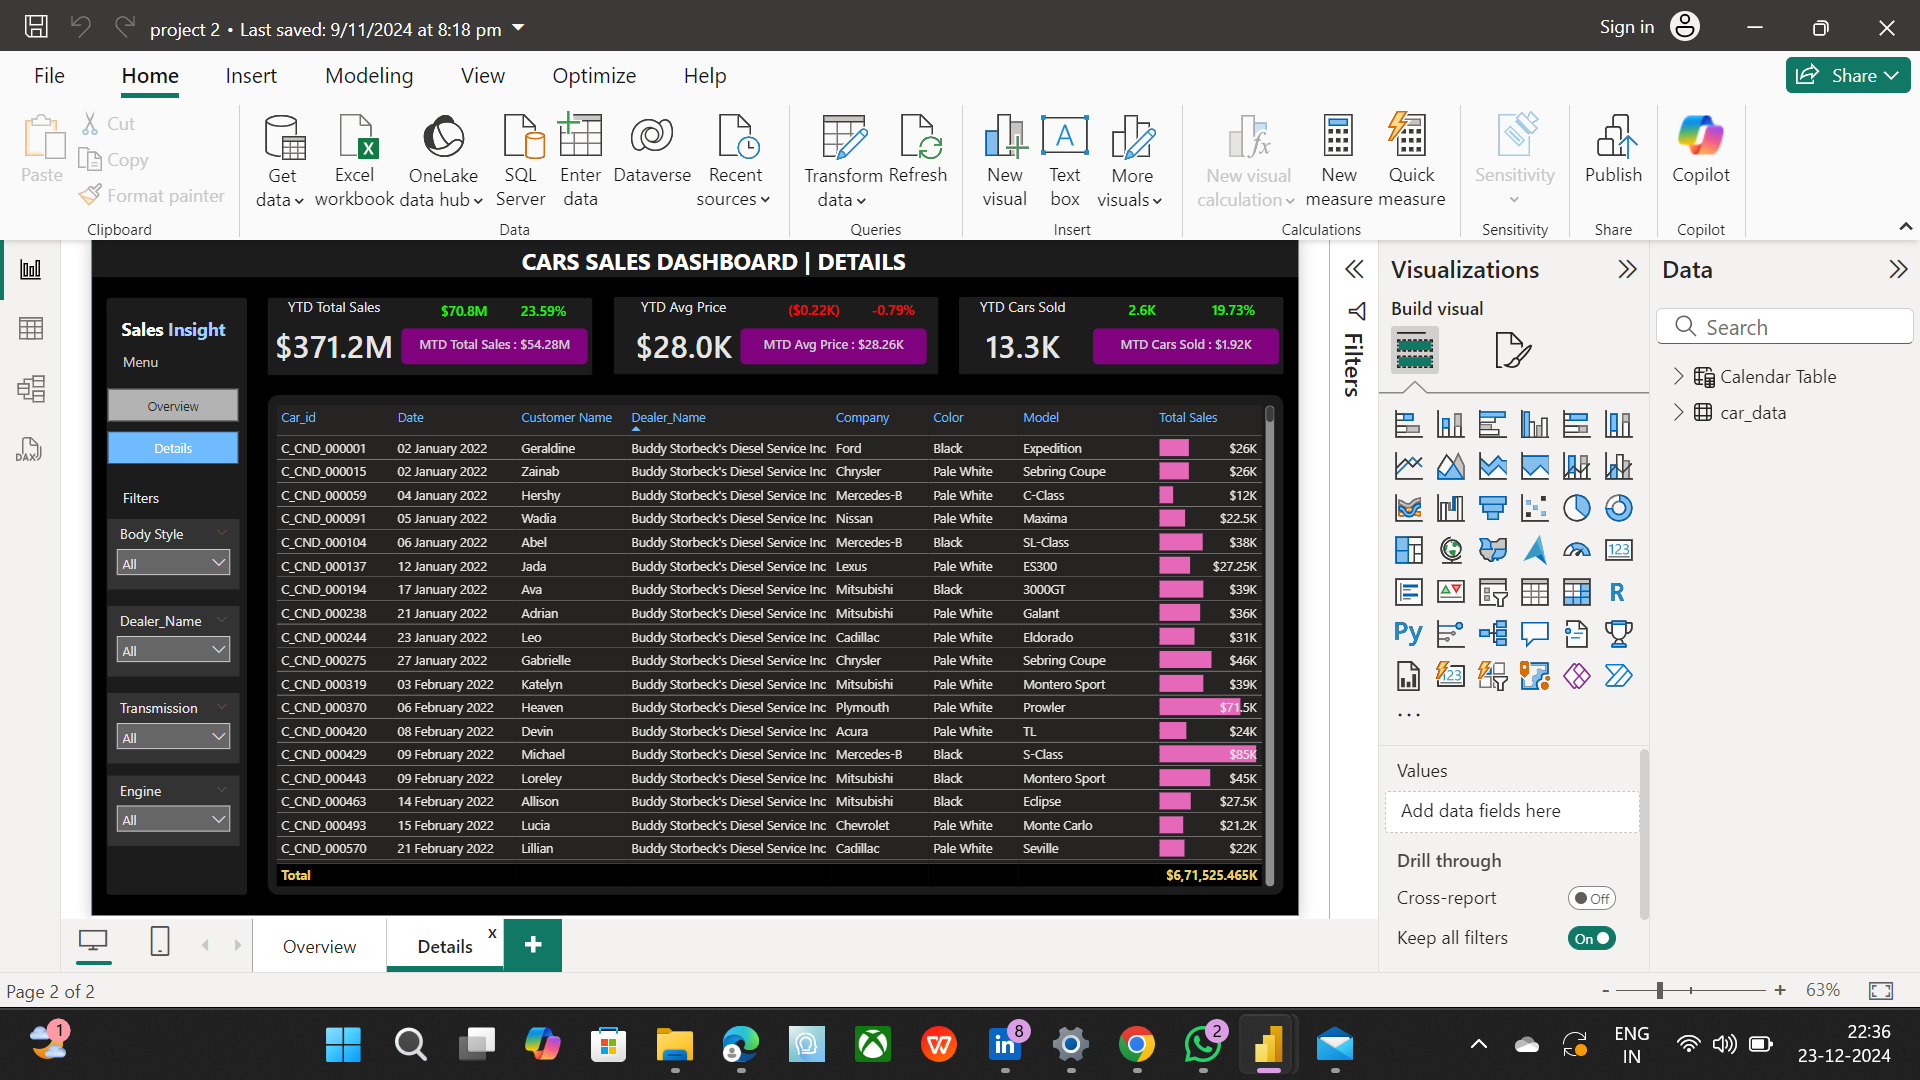

This screenshot's page, from the dashboard's own definition file:
{"tool":"powerbi","page":{"name":"Details","canvas":[1280,720],"ordinal":1},"visuals":[{"type":"card","title":"YTD  Total Sales","fields":{"Values":["car_data.YTD Total Sales"]},"box":[168.6,60.4,178.1,82.7],"z":0},{"type":"card","fields":{"Values":["car_data.Sales Difference"]},"box":[346.8,60.4,97,33.4],"z":1000},{"type":"card","fields":{"Values":["car_data.YoY sales Growth"]},"box":[432.6,60.4,93.8,33.4],"z":2000},{"type":"card","fields":{"Values":["car_data.MTD KPI"]},"box":[329.3,93.8,197.2,38.2],"z":3000},{"type":"card","title":"YTD  Avg Price","fields":{"Values":["car_data.YTD Avg Price"]},"box":[539.2,60.4,178.1,82.7],"z":4000},{"type":"card","fields":{"Values":["car_data.Avg Price Diff"]},"box":[717.4,60.4,97,31.8],"z":5000},{"type":"card","fields":{"Values":["car_data.YoY Avg Price Growth"]},"box":[801.7,60.4,97,31.8],"z":6000},{"type":"card","fields":{"Values":["car_data.MTD Avg Price KPI"]},"box":[688.7,93.8,197.2,38.2],"z":7000},{"type":"card","title":"YTD  Cars Sold","fields":{"Values":["car_data.YTD Cars Sold"]},"box":[898.7,60.4,178.1,82.7],"z":8000},{"type":"card","fields":{"Values":["car_data.Cars Sold Diff"]},"box":[1065.7,60.4,97,31.8],"z":9000},{"type":"card","fields":{"Values":["car_data.YoY Cars Sold growth"]},"box":[1162.7,60.4,97,31.8],"z":10000},{"type":"card","fields":{"Values":["car_data.MTD Cars Sold KPI"]},"box":[1062.5,93.8,197.2,38.2],"z":11000},{"type":"textbox","box":[451.7,0,474,84.3],"z":12000},{"type":"slicer","fields":{"Values":["car_data.Body Style"]},"box":[17.5,295.9,140,74.8],"z":13000},{"type":"slicer","fields":{"Values":["car_data.Dealer_Name"]},"box":[17.5,388.1,140,74.8],"z":14000},{"type":"slicer","fields":{"Values":["car_data.Transmission"]},"box":[17.5,480.4,140,74.8],"z":15000},{"type":"slicer","fields":{"Values":["car_data.Engine"]},"box":[17.5,567.8,140,74.8],"z":16000},{"type":"textbox","box":[28.6,257.7,101.8,33.4],"z":17000},{"type":"tableEx","fields":{"Values":["car_data.Car_id","car_data.Date","car_data.Customer Name","car_data.Dealer_Name","car_data.Company","car_data.Color","car_data.Model","Sum(car_data.Price ($))"]},"box":[190.9,170.2,1068.9,520.1],"z":18000},{"type":"textbox","box":[17.5,76.3,140,55.7],"z":19000},{"type":"textbox","box":[28.6,112.9,128.8,57.3],"z":20000},{"type":"pageNavigator","box":[17.5,157.5,140,81.1],"z":21000}]}

Visuals, with their boxes on the page's 1280x720 design canvas (x1, y1, x2, y2). These are canvas units, not pixel positions in the 1920x1080 screenshot, which may show the page scaled, cropped or inside an application window:
"YTD  Total Sales" card: {"x1": 169, "y1": 60, "x2": 347, "y2": 143}
card - car_data.Sales Difference: {"x1": 347, "y1": 60, "x2": 444, "y2": 94}
card - car_data.YoY sales Growth: {"x1": 433, "y1": 60, "x2": 526, "y2": 94}
card - car_data.MTD KPI: {"x1": 329, "y1": 94, "x2": 526, "y2": 132}
"YTD  Avg Price" card: {"x1": 539, "y1": 60, "x2": 717, "y2": 143}
card - car_data.Avg Price Diff: {"x1": 717, "y1": 60, "x2": 814, "y2": 92}
card - car_data.YoY Avg Price Growth: {"x1": 802, "y1": 60, "x2": 899, "y2": 92}
card - car_data.MTD Avg Price KPI: {"x1": 689, "y1": 94, "x2": 886, "y2": 132}
"YTD  Cars Sold" card: {"x1": 899, "y1": 60, "x2": 1077, "y2": 143}
card - car_data.Cars Sold Diff: {"x1": 1066, "y1": 60, "x2": 1163, "y2": 92}
card - car_data.YoY Cars Sold growth: {"x1": 1163, "y1": 60, "x2": 1260, "y2": 92}
card - car_data.MTD Cars Sold KPI: {"x1": 1062, "y1": 94, "x2": 1260, "y2": 132}
textbox: {"x1": 452, "y1": 0, "x2": 926, "y2": 84}
slicer - car_data.Body Style: {"x1": 18, "y1": 296, "x2": 158, "y2": 371}
slicer - car_data.Dealer_Name: {"x1": 18, "y1": 388, "x2": 158, "y2": 463}
slicer - car_data.Transmission: {"x1": 18, "y1": 480, "x2": 158, "y2": 555}
slicer - car_data.Engine: {"x1": 18, "y1": 568, "x2": 158, "y2": 643}
textbox: {"x1": 29, "y1": 258, "x2": 130, "y2": 291}
tableEx - car_data.Car_id x car_data.Date: {"x1": 191, "y1": 170, "x2": 1260, "y2": 690}
textbox: {"x1": 18, "y1": 76, "x2": 158, "y2": 132}
textbox: {"x1": 29, "y1": 113, "x2": 157, "y2": 170}
pageNavigator: {"x1": 18, "y1": 158, "x2": 158, "y2": 239}
